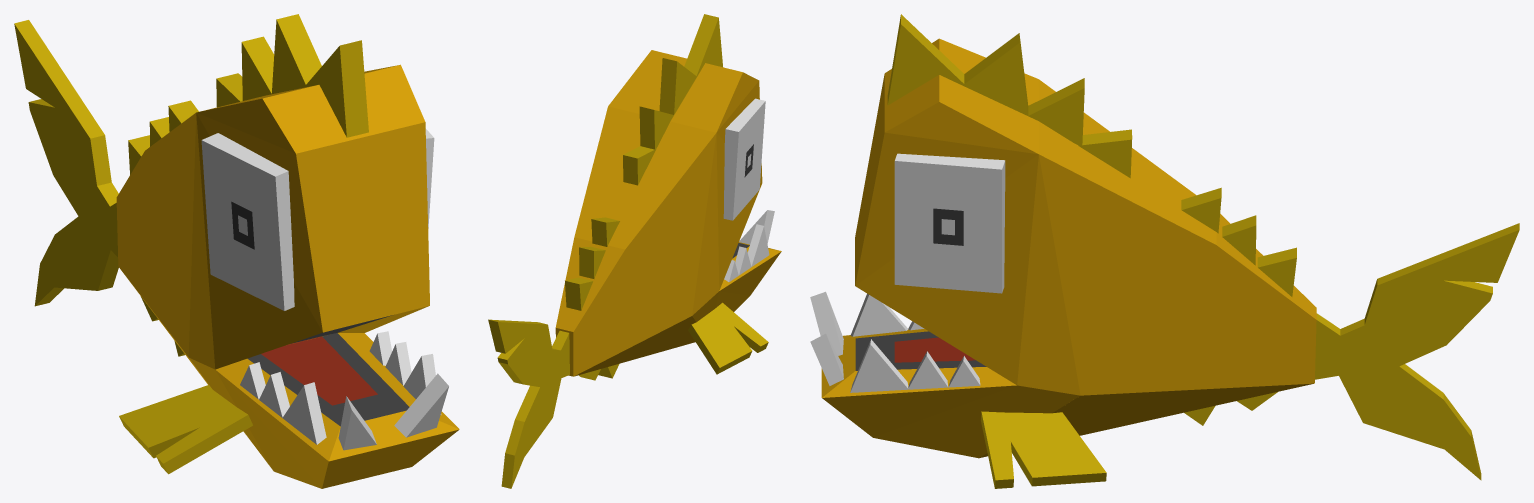
Rendered from shocked_gold.fbx.
The picture shows the model from 3 angles, left to right: view 1: azimuth 30°, elevation 25°; view 2: azimuth 150°, elevation 25°; view 3: azimuth 270°, elevation 25°; orthographic projection. The views are drawn at different scales.
Visible parts, largest first — view 1: Cube.032; view 2: Cube.032; view 3: Cube.032.
Boxes of the visible parts, left/top/right/bottom form: Cube.032: left=14, top=14, right=459, bottom=488; Cube.032: left=488, top=14, right=781, bottom=488; Cube.032: left=810, top=14, right=1519, bottom=488.
Bounding box in the file's own units: 1.52 × 2.56 × 3.6.
